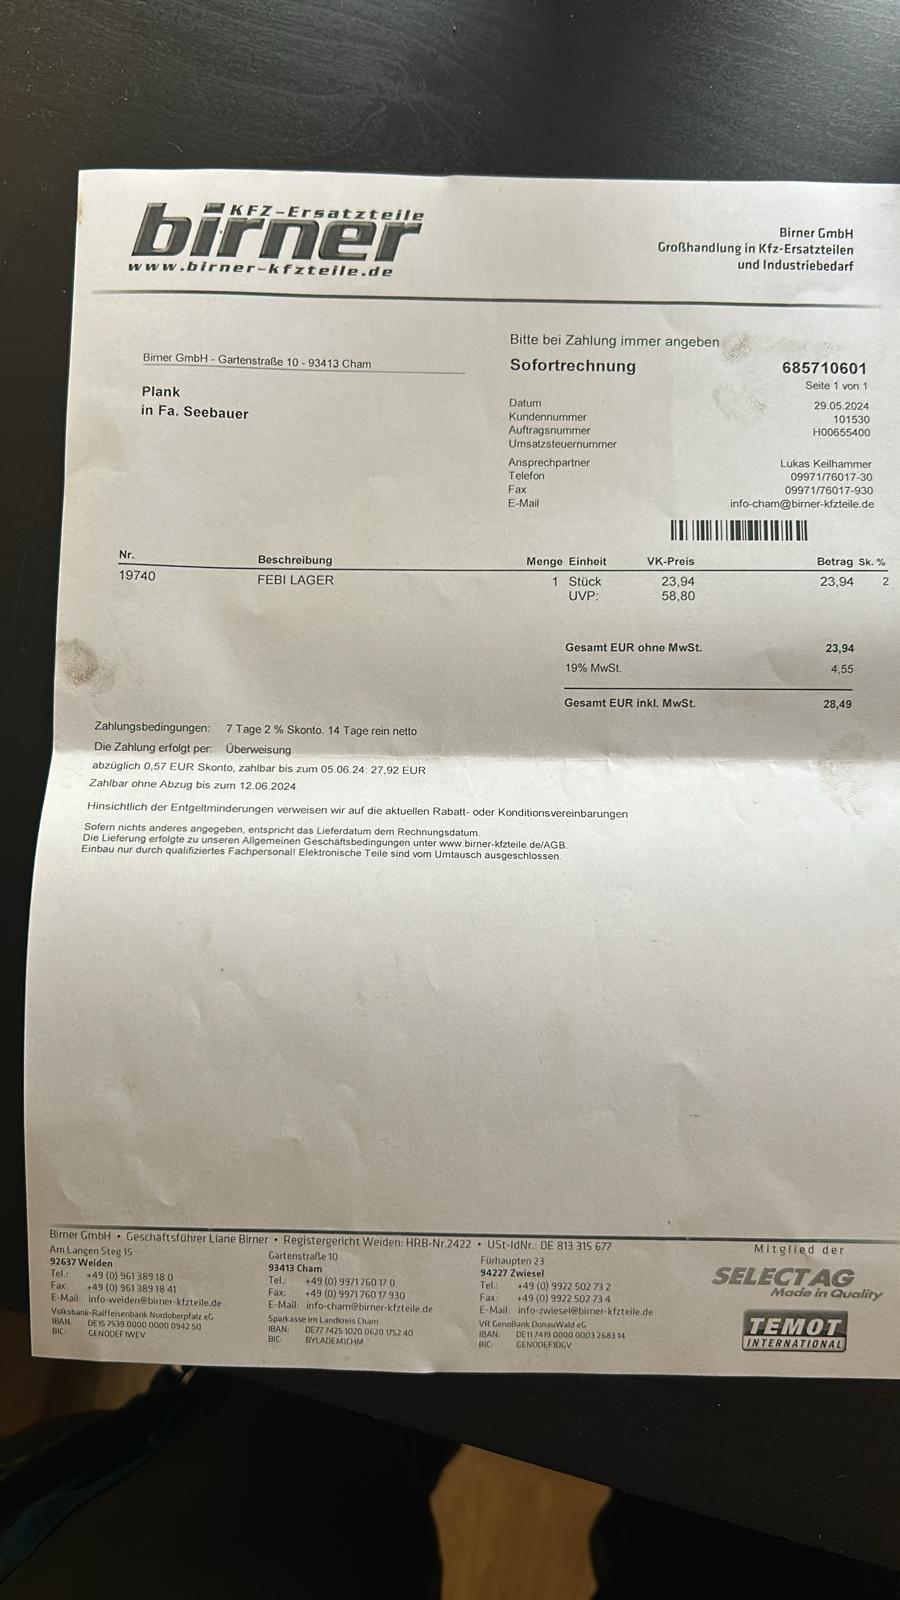table: (116, 538, 800, 616)
total-price: (815, 689, 860, 713)
